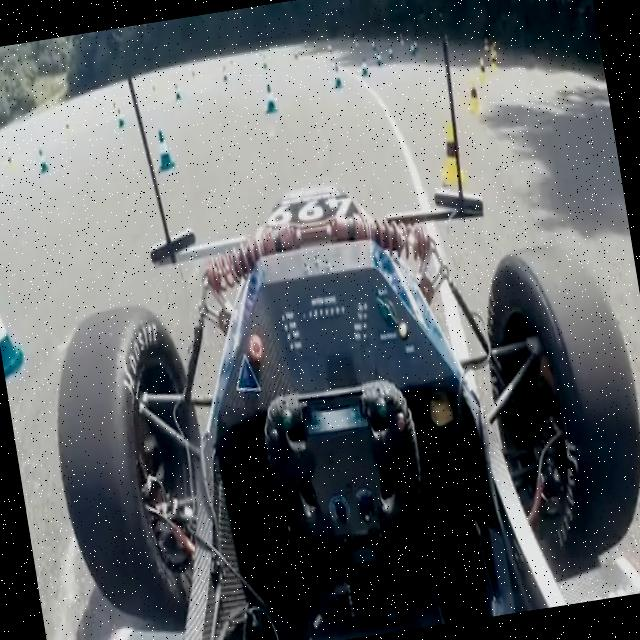blue_cone: (0, 282, 29, 379), (151, 128, 177, 174), (262, 82, 280, 116), (36, 148, 52, 176), (330, 62, 345, 91)
yellow_cone: (433, 121, 471, 190), (462, 76, 484, 116)
